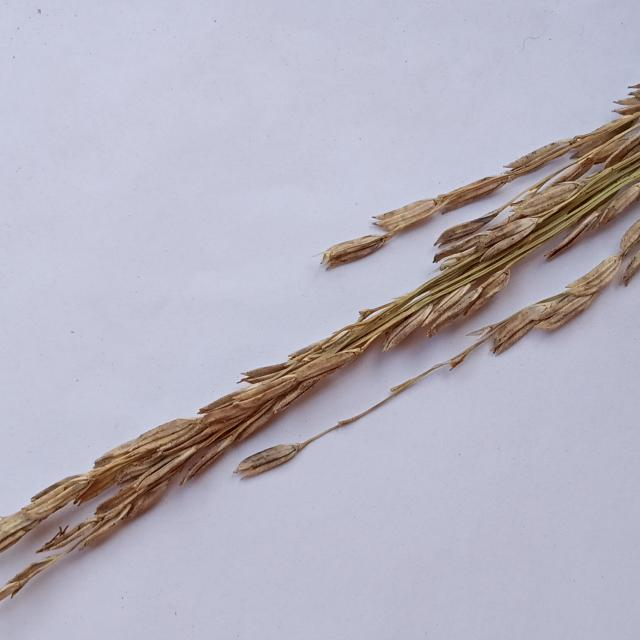Neck_Blast: (0, 86, 640, 608)
